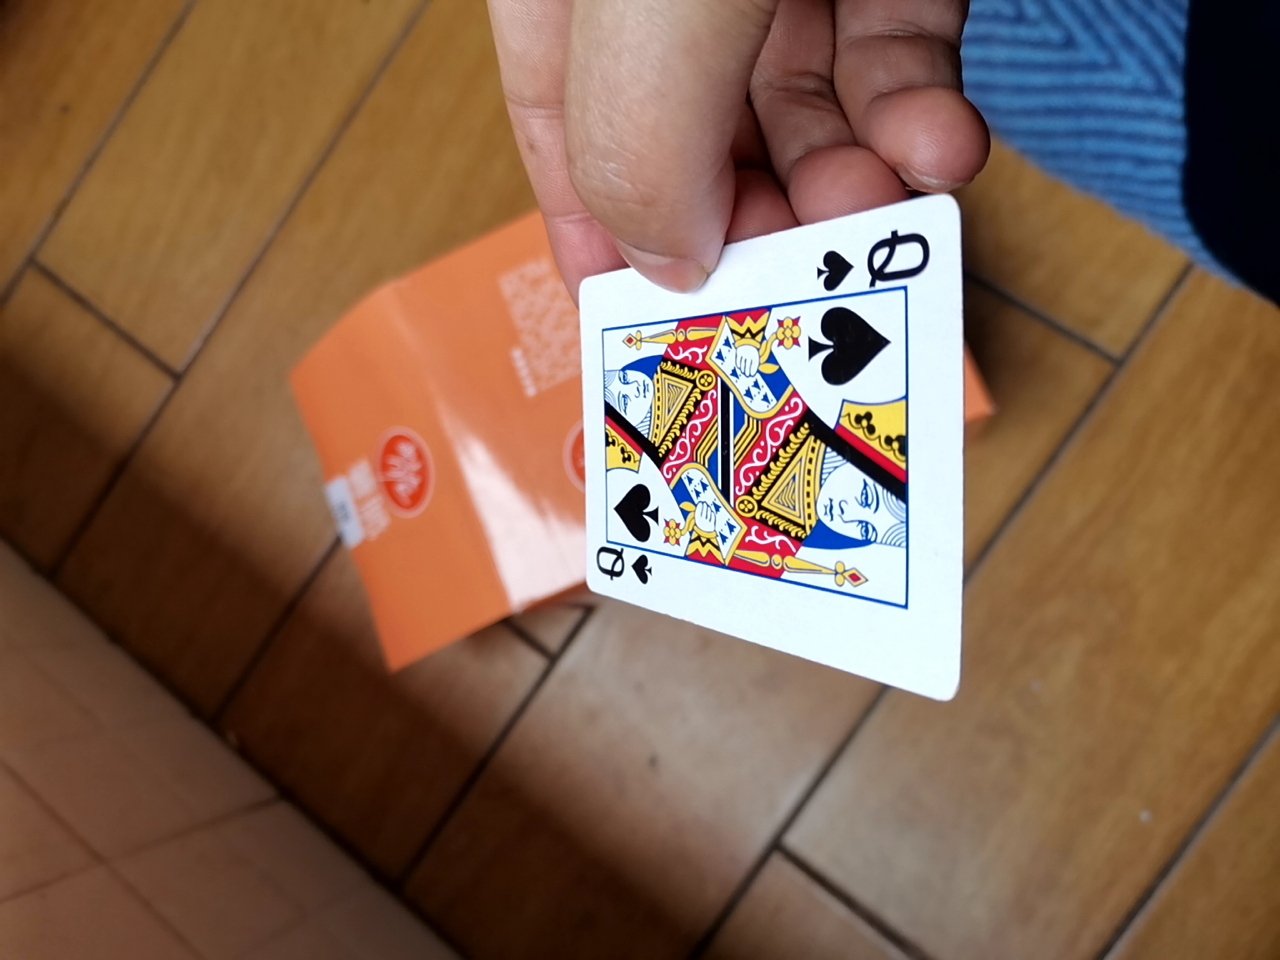ht q: (473, 191, 982, 697)
